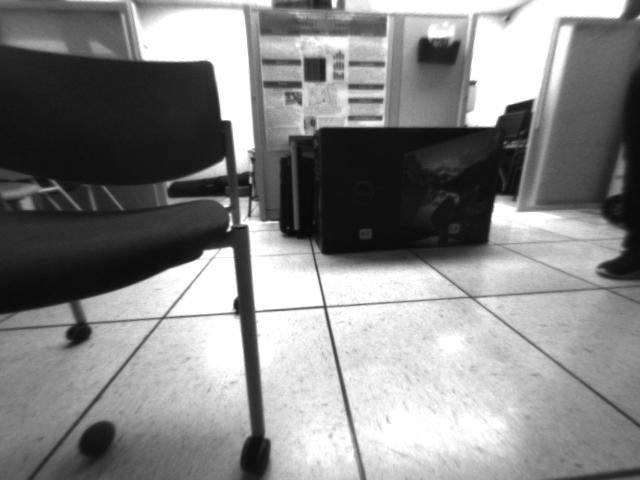dogtoy: (74, 413, 120, 463)
